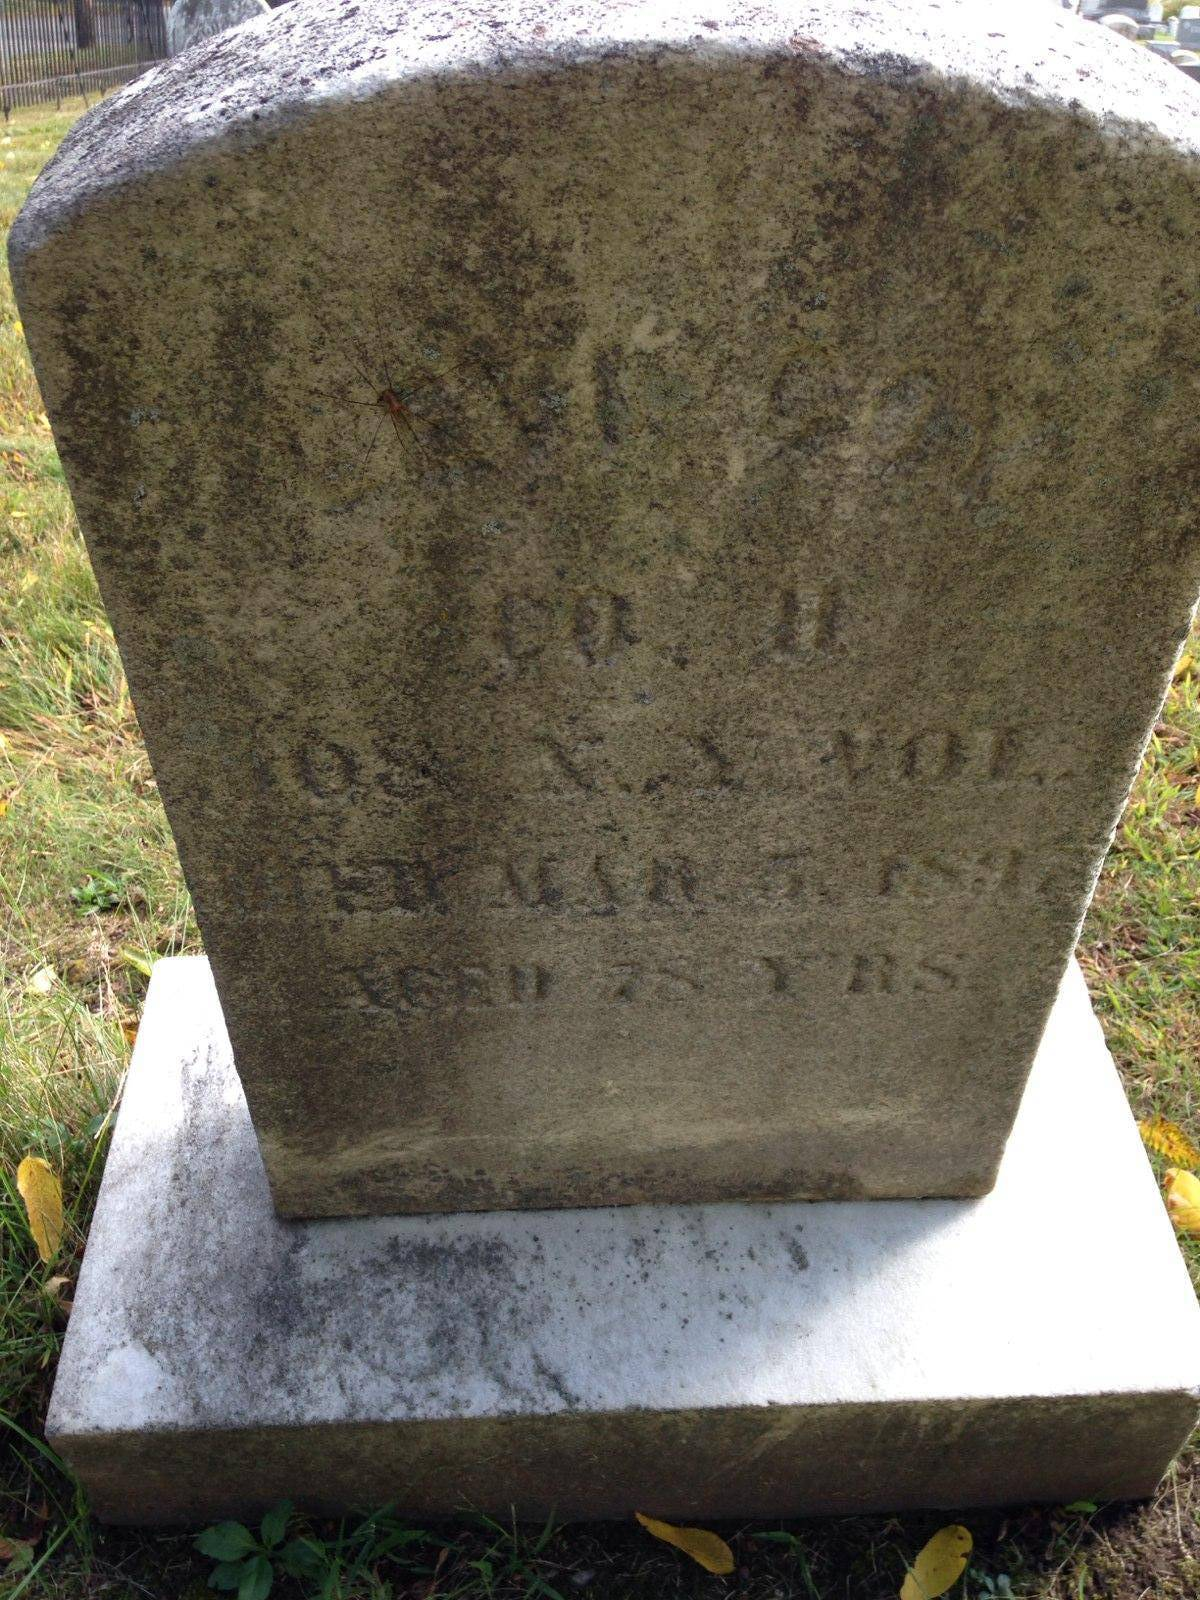upright: (13, 21, 1200, 1579)
